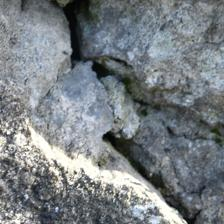Crack: (70, 62, 127, 224), (40, 45, 134, 129)
